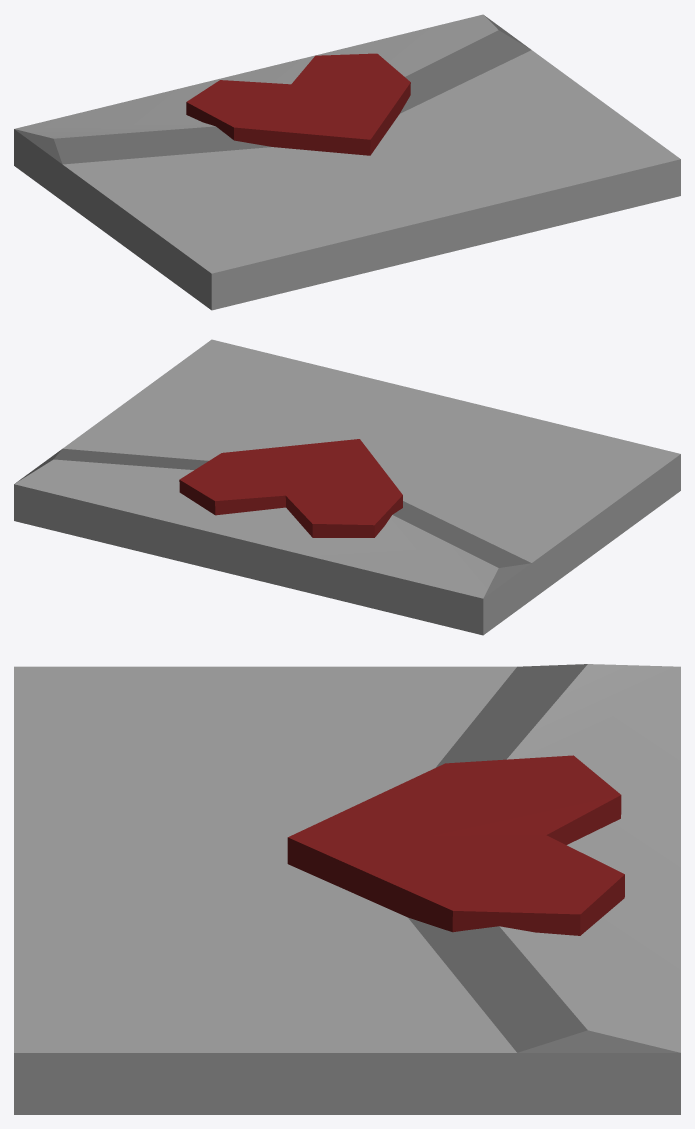
The model's file is letter_part.fbx.
3 renders of one model, top to bottom at view 1: azimuth 30°, elevation 25°; view 2: azimuth 150°, elevation 25°; view 3: azimuth 270°, elevation 25°, orthographic. The views are drawn at different scales.
Parts seen in each view (by area): view 1: letter_part_mesh; view 2: letter_part_mesh; view 3: letter_part_mesh.
Boxes of the visible parts, bbox=[...] form: letter_part_mesh: bbox=[14, 14, 680, 310]; letter_part_mesh: bbox=[14, 339, 680, 635]; letter_part_mesh: bbox=[14, 664, 680, 1114].
Size of the model in its own units: 0.413 by 0.0446 by 0.3015.
